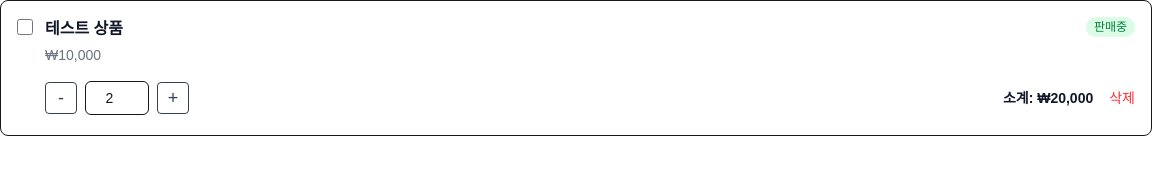
CartItemRow › 재고 초과 입력 시 에러 메시지가 표시되고 재고 최대값으로 클램프된다
Replace the text in the number field named "수량" with "99" at coordinates (117, 98), box [85,81,149,115]
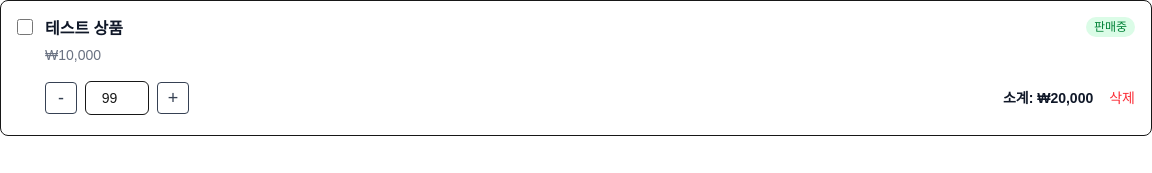
Leave the number field named "수량", box [85,81,149,115]
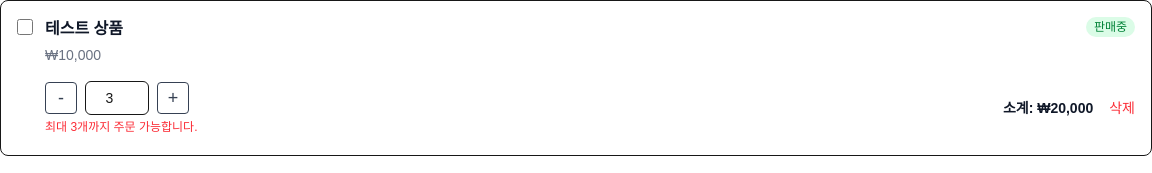
expect the text "최대 3개까지 주문 가능합니다." is shown: met, box [45,119,198,135]
expect the number field named "수량" holds "3": met, box [85,81,149,115]
